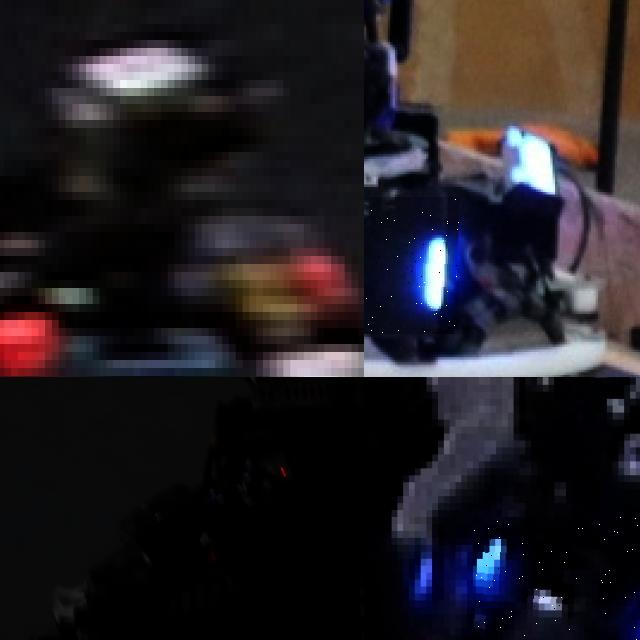B3: (472, 517, 640, 640), (364, 197, 459, 334)
